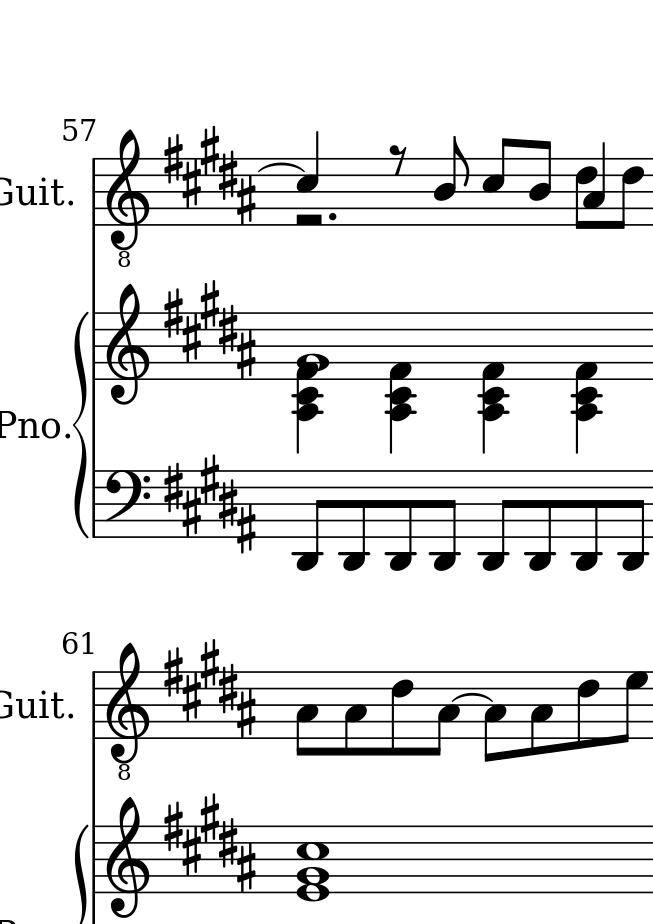1_th: (296, 824, 331, 904)
4_3: (583, 142, 607, 229)
4_5: (297, 130, 320, 238)
4_th: (384, 311, 418, 454), (293, 310, 326, 453), (478, 310, 510, 455), (571, 310, 601, 454)
8_-3: (479, 468, 514, 573), (294, 468, 328, 572), (387, 468, 418, 573), (432, 467, 462, 574), (572, 468, 602, 575), (527, 467, 556, 575), (618, 467, 645, 573), (342, 468, 369, 573)
8_3: (431, 668, 463, 755), (483, 668, 512, 763), (292, 669, 320, 760), (528, 668, 554, 757), (342, 669, 366, 757)
8_4: (434, 135, 469, 227), (528, 139, 552, 229)
8_5: (481, 135, 515, 228)
8_6: (613, 156, 648, 234), (389, 670, 414, 758), (576, 669, 601, 751), (574, 157, 596, 231)
8_7: (619, 669, 648, 748)
B_S: (161, 277, 256, 381), (162, 126, 257, 226), (163, 793, 258, 893), (163, 457, 257, 554), (165, 640, 253, 734)
Fclef: (104, 469, 154, 542)
Gclef: (103, 282, 151, 408), (105, 796, 151, 919)
Guit: (1, 687, 65, 725), (1, 173, 61, 209)
Lower_Gclef: (104, 128, 153, 269), (105, 642, 149, 782)
Pno: (1, 407, 61, 442)
Rests2: (292, 208, 327, 231)
Rests8: (387, 141, 409, 177)
Single_barline: (89, 312, 102, 383), (89, 468, 103, 533), (88, 158, 100, 230), (90, 824, 102, 894), (88, 671, 99, 744)
Slur: (256, 162, 307, 173), (451, 693, 492, 701)
dot: (325, 207, 342, 227), (328, 208, 339, 223)
